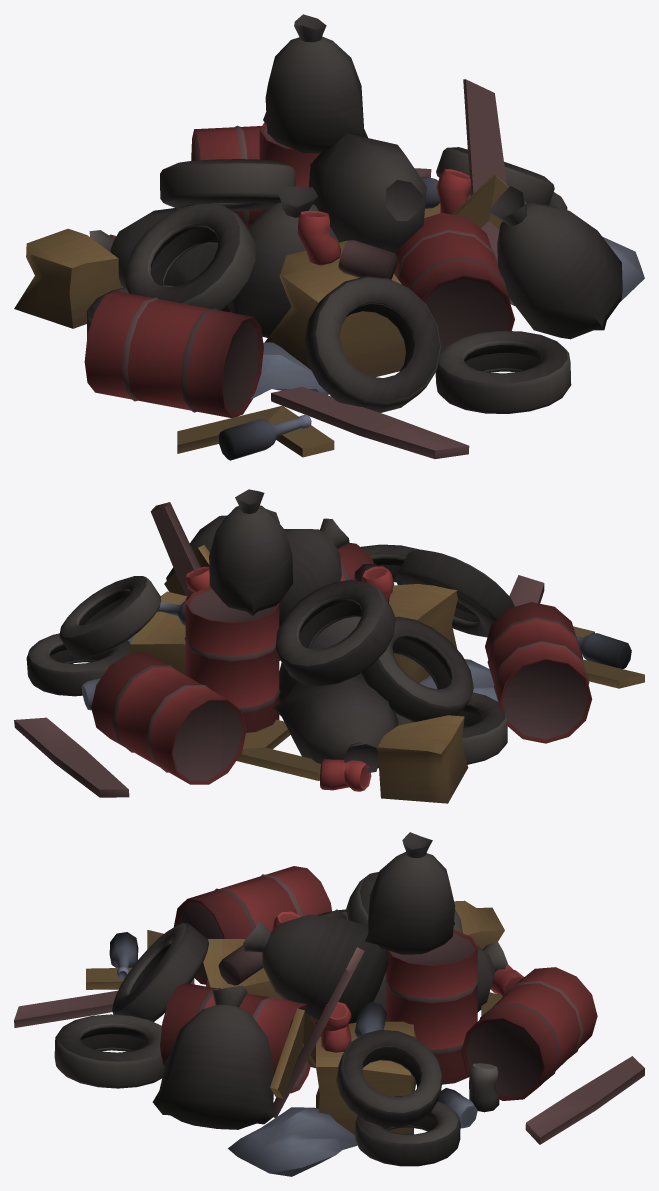
The model's file is Asset_Trash_Small.fbx.
The picture shows the model from 3 angles, top to bottom: view 1: azimuth 30°, elevation 25°; view 2: azimuth 150°, elevation 25°; view 3: azimuth 270°, elevation 25°; orthographic projection. The views are drawn at different scales.
Visible parts, largest first — view 1: Trash_Small; view 2: Trash_Small; view 3: Trash_Small.
Boxes of the visible parts, x1,y1,x2,y2 form: Trash_Small: (14,14,644,460); Trash_Small: (14,489,644,803); Trash_Small: (14,832,644,1176).
Size of the model in its own units: 42.76 by 19.76 by 47.14.
